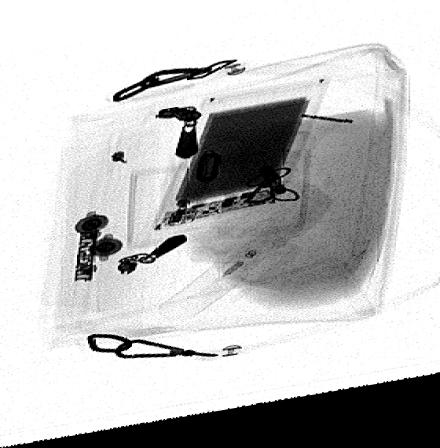Powerbank: (146, 87, 331, 240)
